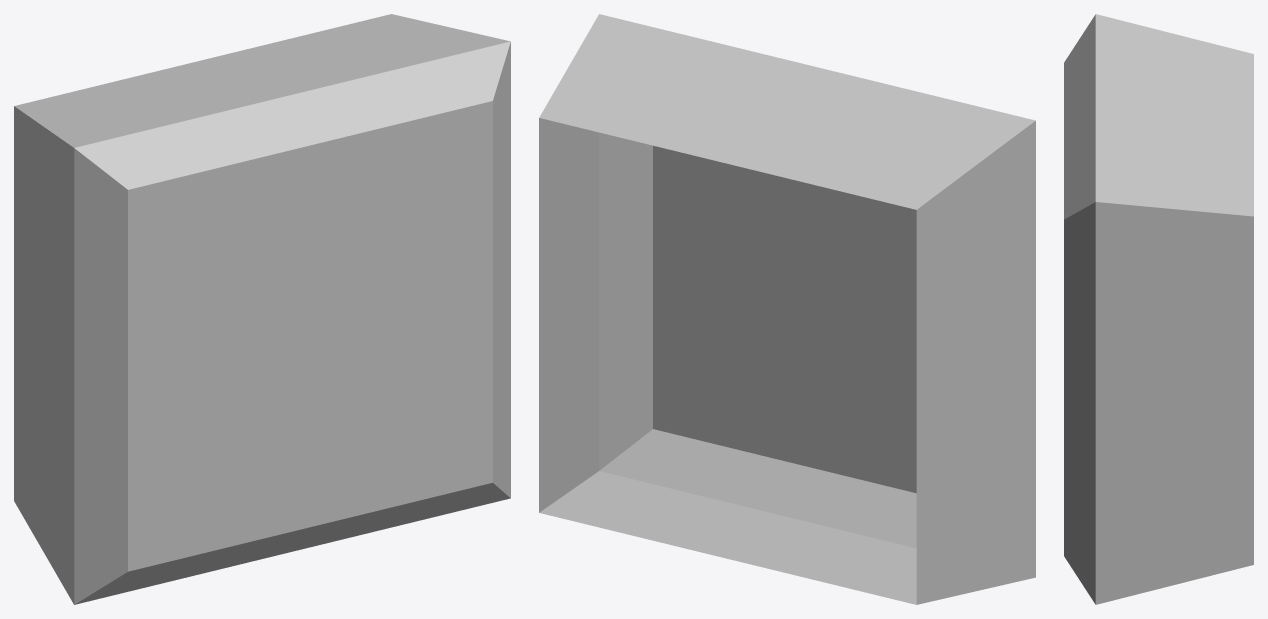
Rendered from smallButton.fbx.
3 views of the same model, side by side, from view 1: azimuth 30°, elevation 25°; view 2: azimuth 150°, elevation 25°; view 3: azimuth 270°, elevation 25° (orthographic). The views are drawn at different scales.
Parts seen in each view (by area): view 1: smallBT; view 2: smallBT; view 3: smallBT.
Part boxes in pixels (x1=…): smallBT: x1=14, y1=14, x2=510, y2=604; smallBT: x1=539, y1=14, x2=1035, y2=604; smallBT: x1=1064, y1=14, x2=1253, y2=604.
Size of the model in its own units: 4.14 by 4.14 by 1.77.
